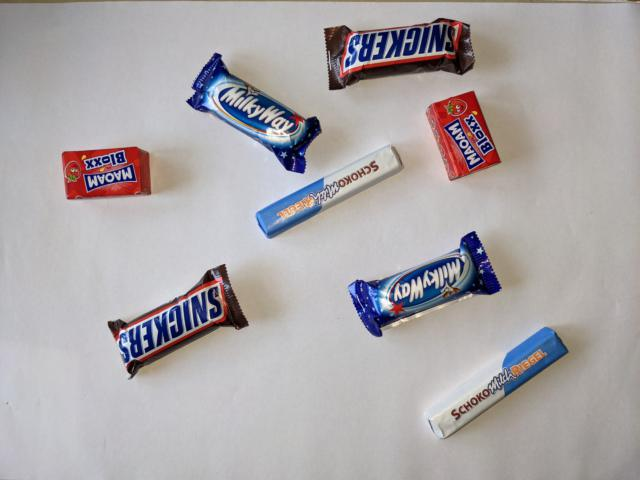MAOAM: (422, 89, 505, 183), (58, 145, 154, 202)
MilkyWay: (183, 50, 325, 177), (344, 229, 504, 340)
Schokoriegel: (419, 324, 572, 444), (251, 142, 406, 241)
Snickers: (103, 260, 253, 384), (320, 16, 477, 94)
